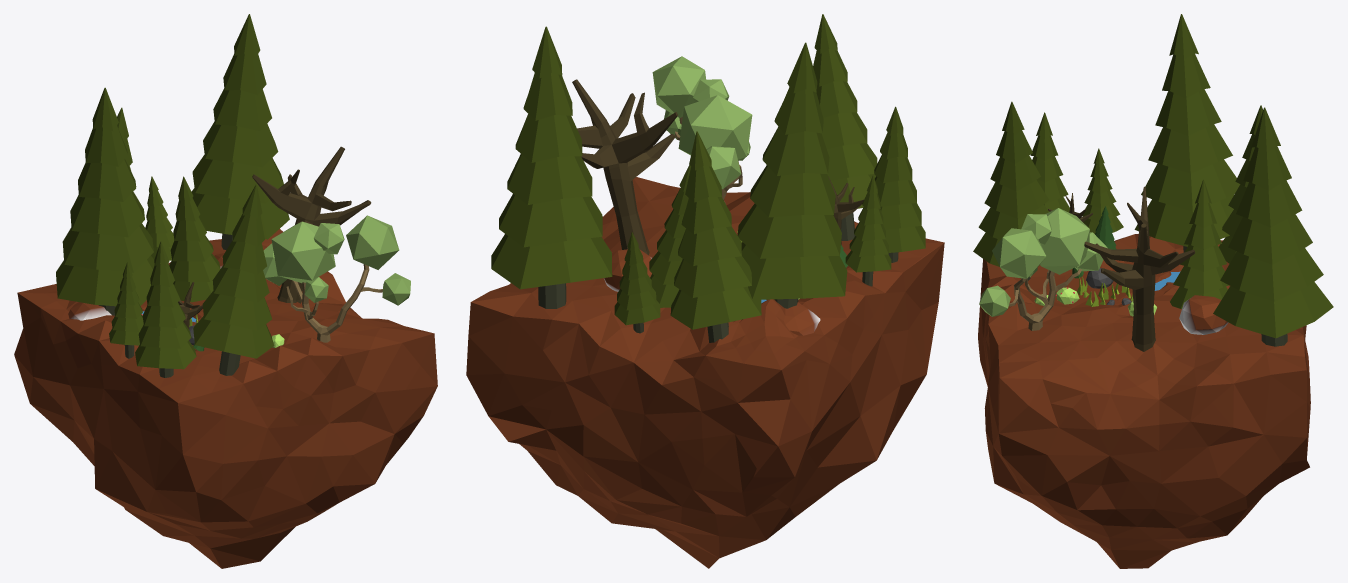
File: forest.fbx
3 renders of one model, left to right at view 1: azimuth 30°, elevation 25°; view 2: azimuth 150°, elevation 25°; view 3: azimuth 270°, elevation 25°, orthographic. The views are drawn at different scales.
Visible parts, largest first — view 1: Икосфера, SapinHiver.006, SapinHiver.007, Tree_lp_11.001, SapinHiver.001, SapinHiver.004, SapinHiver.003, Arbre Automne.001, SapinHiver.002, SapinHiver.005, caillou1.001; view 2: Икосфера, SapinHiver.007, SapinHiver.006, SapinHiver.015, Tree_lp_11.001, Arbre Automne.001, SapinHiver.001, SapinHiver.004, SapinHiver.002, SapinHiver.005, SapinHiver.003, caillou1.001 (+2 smaller); view 3: Икосфера, SapinHiver.007, SapinHiver.006, Tree_lp_11.001, SapinHiver.001, Arbre Automne.001, SapinHiver.003, SapinHiver.004, SapinHiver.002, caillou1.002, SapinHiver.015, Cylinder.005.
Boxes of the visible parts, <box> form: Икосфера: <box>14,229,437,568</box>; SapinHiver.006: <box>56,87,154,315</box>; SapinHiver.007: <box>191,14,289,250</box>; Tree_lp_11.001: <box>263,215,410,342</box>; SapinHiver.001: <box>193,184,274,375</box>; SapinHiver.004: <box>135,241,196,377</box>; SapinHiver.003: <box>169,176,220,302</box>; Arbre Automne.001: <box>252,146,371,303</box>; SapinHiver.002: <box>109,262,143,358</box>; SapinHiver.005: <box>145,176,174,260</box>; caillou1.001: <box>68,302,111,320</box>; Икосфера: <box>466,177,944,568</box>; SapinHiver.007: <box>491,26,612,308</box>; SapinHiver.006: <box>737,42,847,308</box>; SapinHiver.015: <box>670,131,761,342</box>; Tree_lp_11.001: <box>652,56,752,203</box>; Arbre Automne.001: <box>572,79,677,255</box>; SapinHiver.001: <box>813,14,877,240</box>; SapinHiver.004: <box>874,106,925,262</box>; SapinHiver.002: <box>845,175,891,286</box>; SapinHiver.005: <box>614,232,660,333</box>; SapinHiver.003: <box>649,165,690,307</box>; caillou1.001: <box>784,302,820,335</box>; Икосфера: <box>978,233,1310,568</box>; SapinHiver.007: <box>1213,107,1333,346</box>; SapinHiver.006: <box>1134,14,1240,252</box>; Tree_lp_11.001: <box>979,208,1107,330</box>; SapinHiver.001: <box>973,101,1049,280</box>; Arbre Automne.001: <box>1084,186,1195,351</box>; SapinHiver.003: <box>1170,179,1228,308</box>; SapinHiver.004: <box>1030,112,1069,212</box>; SapinHiver.002: <box>1082,148,1123,233</box>; caillou1.002: <box>1179,295,1228,334</box>; SapinHiver.015: <box>1219,105,1262,263</box>; Cylinder.005: <box>1095,206,1116,249</box>.
Bounding box in the file's own units: 139 × 229 × 149.
